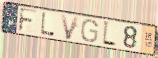8: (123, 25, 138, 49)
F: (17, 7, 39, 34)
G: (80, 18, 100, 43)
L: (40, 12, 57, 38), (102, 20, 117, 49)
V: (59, 13, 81, 41)
